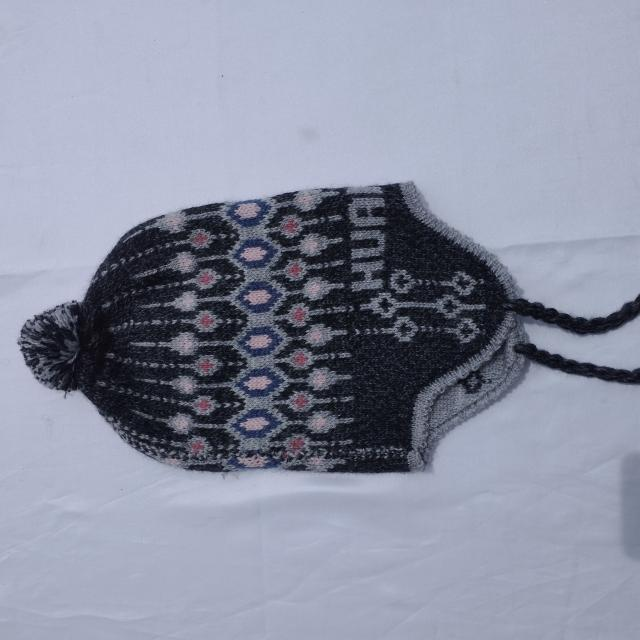Gorro: (17, 180, 638, 476)
